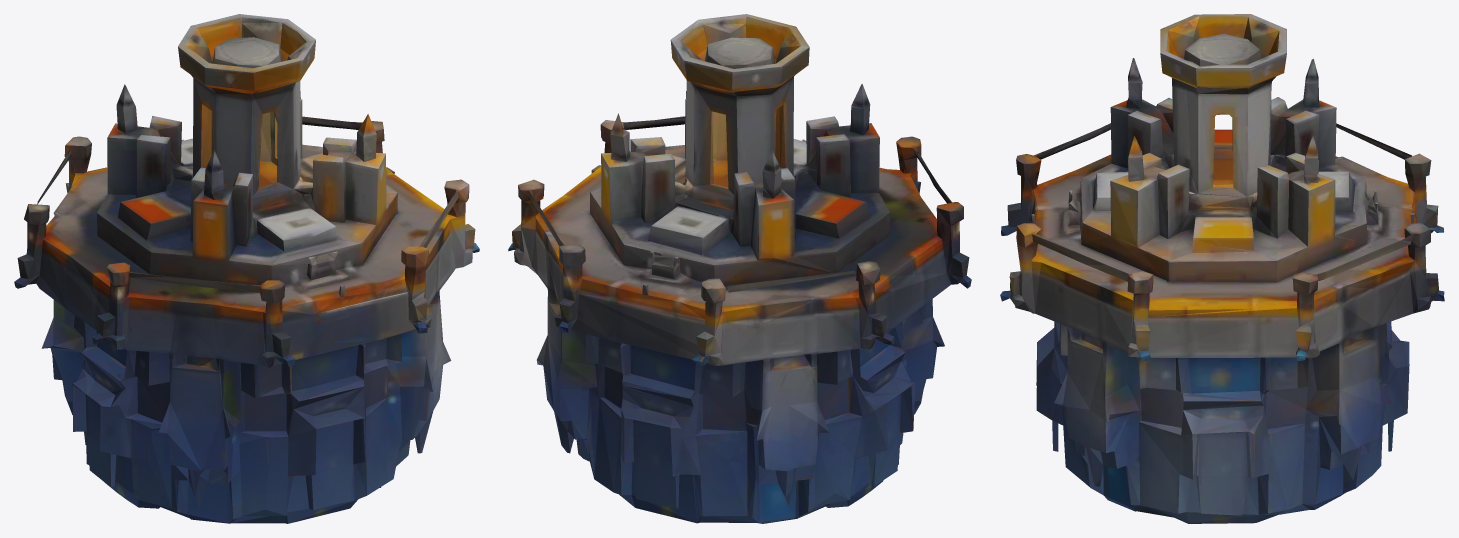
Rendered from station-ai-orange.glb.
3 views of the same model, side by side, from view 1: azimuth 30°, elevation 25°; view 2: azimuth 150°, elevation 25°; view 3: azimuth 270°, elevation 25° (orthographic).
Parts seen in each view (by area): view 1: geometry_0; view 2: geometry_0; view 3: geometry_0.
Boxes of the visible parts, box(x1,y1,x2,y2) form: geometry_0: box(14, 14, 479, 523); geometry_0: box(508, 14, 971, 523); geometry_0: box(1000, 14, 1444, 523).
Size of the model in its own units: 0.9487 by 0.9969 by 0.9498.
Materials: 1 (1 with a texture image).
